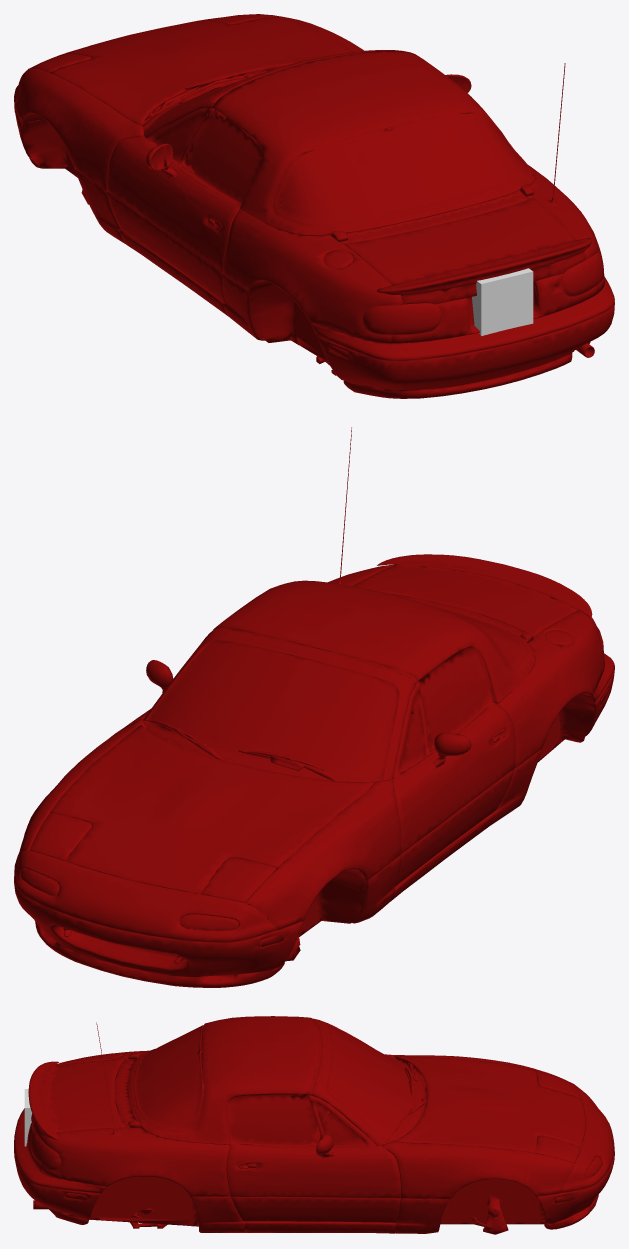
Rendered from miatanowheels2.glb.
The picture shows the model from 3 angles, top to bottom: view 1: azimuth 30°, elevation 25°; view 2: azimuth 150°, elevation 25°; view 3: azimuth 270°, elevation 25°; orthographic projection. The views are drawn at different scales.
Parts seen in each view (by area): view 1: REMOVEDWHEELS1TO1SCALEMIATA, Cube; view 2: REMOVEDWHEELS1TO1SCALEMIATA; view 3: REMOVEDWHEELS1TO1SCALEMIATA, Cube.
Part boxes in pixels (x1,y1,x2,y2): REMOVEDWHEELS1TO1SCALEMIATA: (14,14,614,398); Cube: (472,268,533,335); REMOVEDWHEELS1TO1SCALEMIATA: (14,427,614,987); REMOVEDWHEELS1TO1SCALEMIATA: (14,1016,614,1234); Cube: (24,1089,32,1146).
Size of the model in its own units: 74.18 by 62.97 by 161.
